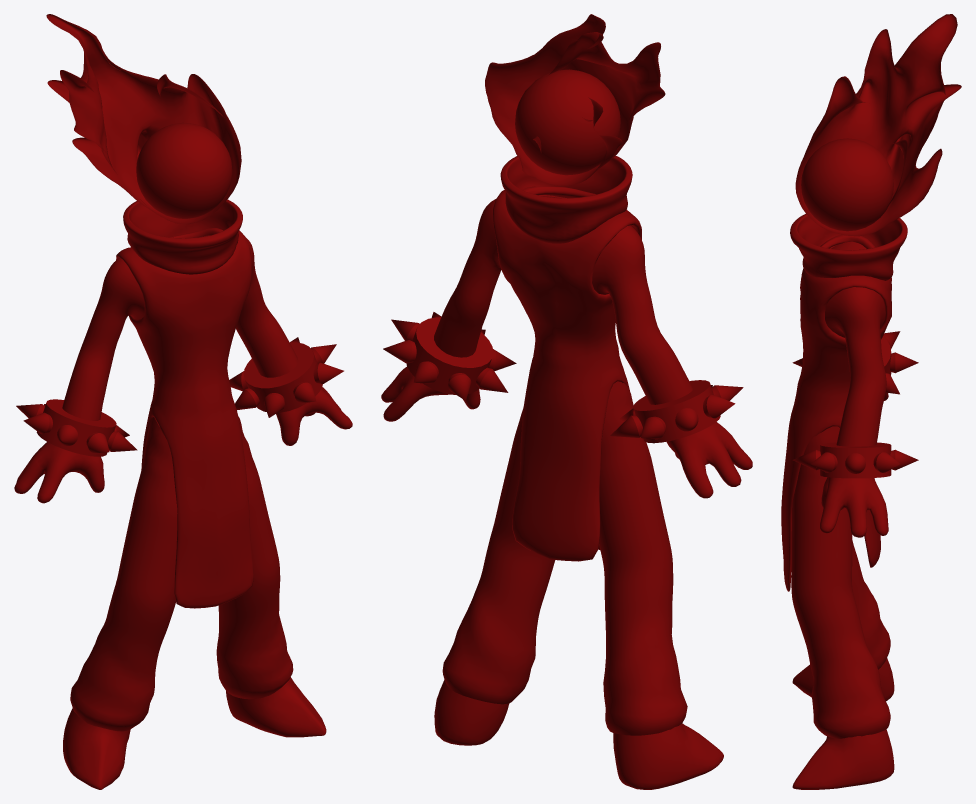
File: StarKnight.fbx
3 views of the same model, side by side, from view 1: azimuth 30°, elevation 25°; view 2: azimuth 150°, elevation 25°; view 3: azimuth 270°, elevation 25° (orthographic). The views are drawn at different scales.
Visible parts, largest first — view 1: Vetement_LP, Fut_LP, Corps_LP, HeadFire_LP, Head_LP, Menottes_LP, Pics_LP; view 2: Vetement_LP, Fut_LP, Corps_LP, HeadFire_LP, Head_LP, Menottes_LP, Pics_LP; view 3: Fut_LP, Corps_LP, Vetement_LP, HeadFire_LP, Head_LP, Pics_LP, Menottes_LP.
Boxes of the visible parts, left/top/right/bottom form: Vetement_LP: left=116, top=199, right=253, bottom=608; Fut_LP: left=70, top=416, right=293, bottom=731; Corps_LP: left=14, top=235, right=352, bottom=789; HeadFire_LP: left=46, top=14, right=241, bottom=224; Head_LP: left=136, top=122, right=232, bottom=218; Menottes_LP: left=36, top=342, right=322, bottom=456; Pics_LP: left=16, top=337, right=343, bottom=452; Vetement_LP: left=493, top=155, right=641, bottom=561; Fut_LP: left=442, top=381, right=687, bottom=735; Corps_LP: left=381, top=196, right=752, bottom=789; HeadFire_LP: left=485, top=14, right=665, bottom=185; Head_LP: left=515, top=69, right=620, bottom=175; Menottes_LP: left=406, top=317, right=720, bottom=443; Pics_LP: left=383, top=312, right=743, bottom=439; Fut_LP: left=791, top=426, right=890, bottom=738; Corps_LP: left=792, top=241, right=894, bottom=789; Vetement_LP: left=781, top=214, right=907, bottom=591; HeadFire_LP: left=795, top=14, right=961, bottom=236; Head_LP: left=801, top=138, right=893, bottom=231; Pics_LP: left=792, top=331, right=918, bottom=473; Menottes_LP: left=820, top=336, right=891, bottom=478.
Size of the model in its own units: 1.6 by 3.34 by 0.7951.
